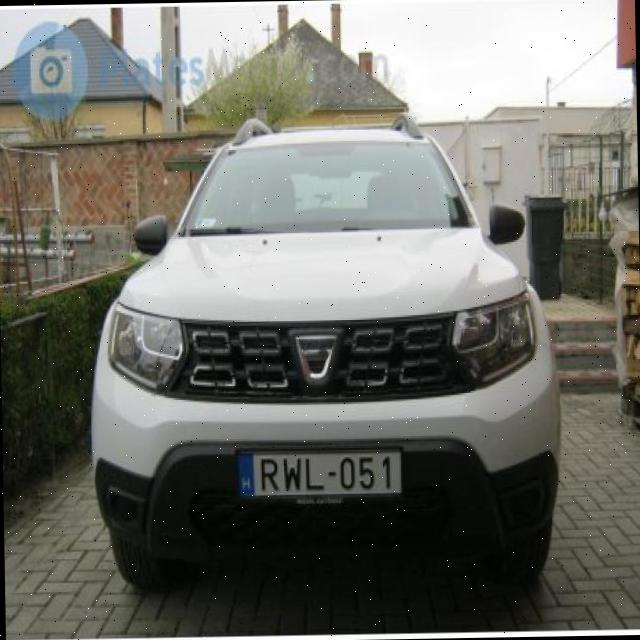licence: (236, 442, 407, 504)
